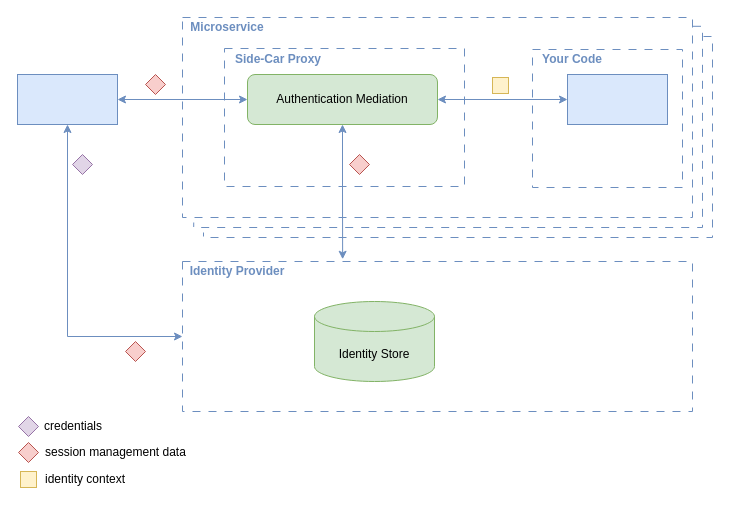
The diagram is 731 pixels wide and 507 high, and some of its shapes have lost their labels. The shapes that lost their labels are listed below. From the top down, each one's box as (x1, y1, x2, y2) in pixels, then its label:
(16, 74, 118, 124): Some Client «Subject»
(566, 74, 668, 124): Some Entity «Object»
